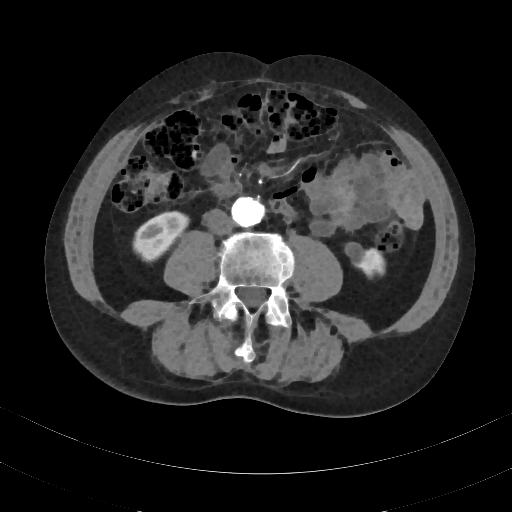Lesion: (339, 238, 366, 263)
